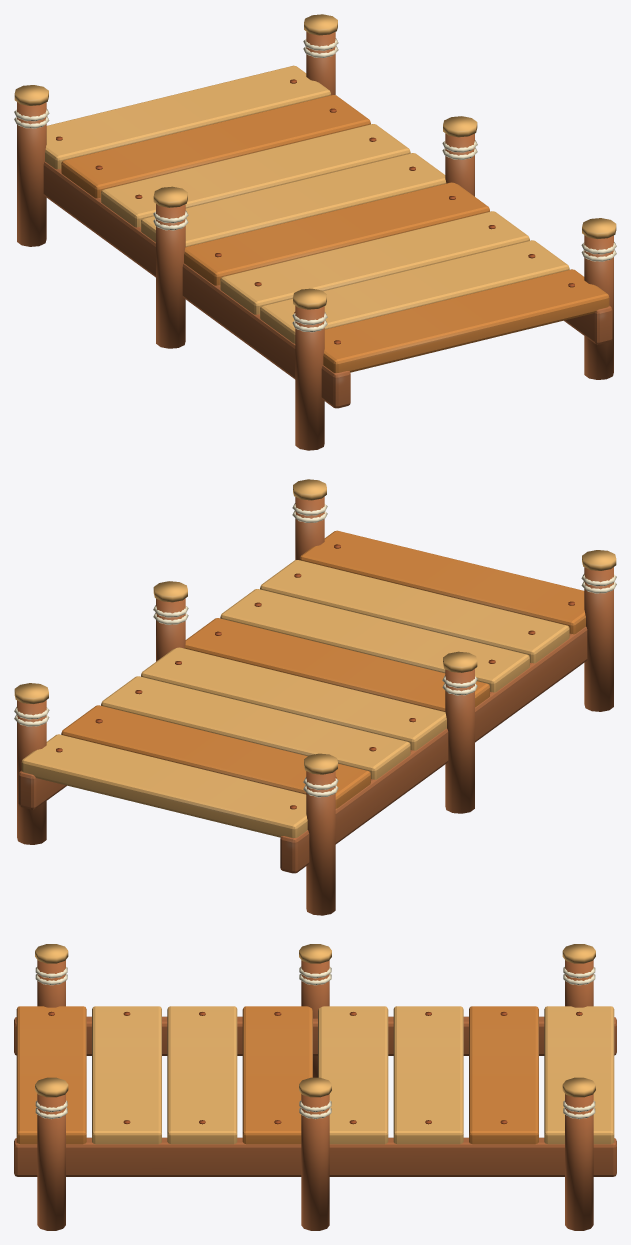
File: DockPier.fbx
The picture shows the model from 3 angles, top to bottom: view 1: azimuth 30°, elevation 25°; view 2: azimuth 150°, elevation 25°; view 3: azimuth 270°, elevation 25°; orthographic projection. The views are drawn at different scales.
Parts seen in each view (by area): view 1: DockPier; view 2: DockPier; view 3: DockPier.
Boxes of the visible parts, left/top/right/bottom form: DockPier: left=14, top=14, right=616, bottom=450; DockPier: left=14, top=479, right=616, bottom=915; DockPier: left=14, top=944, right=616, bottom=1230.
Bounding box in the file's own units: 9.3 × 4.12 × 16.
1 material, 1 textured.
